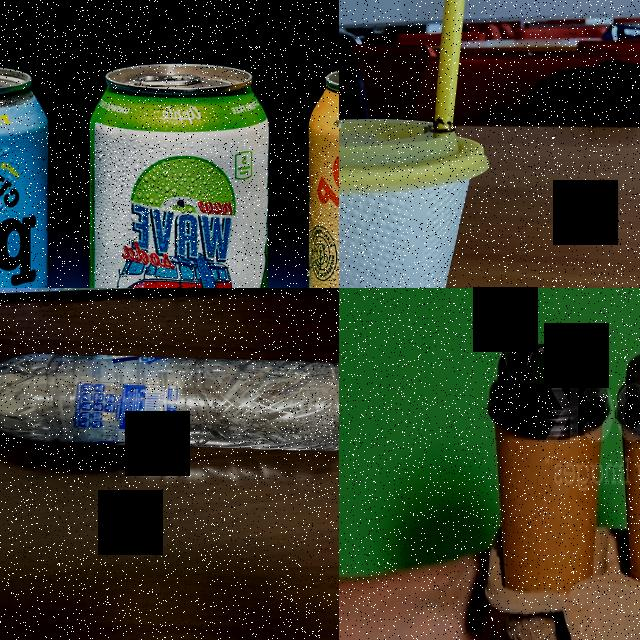bottle: (0, 350, 339, 462)
can: (87, 62, 267, 288)
cup: (486, 338, 614, 616), (339, 119, 491, 288), (615, 342, 640, 616)
